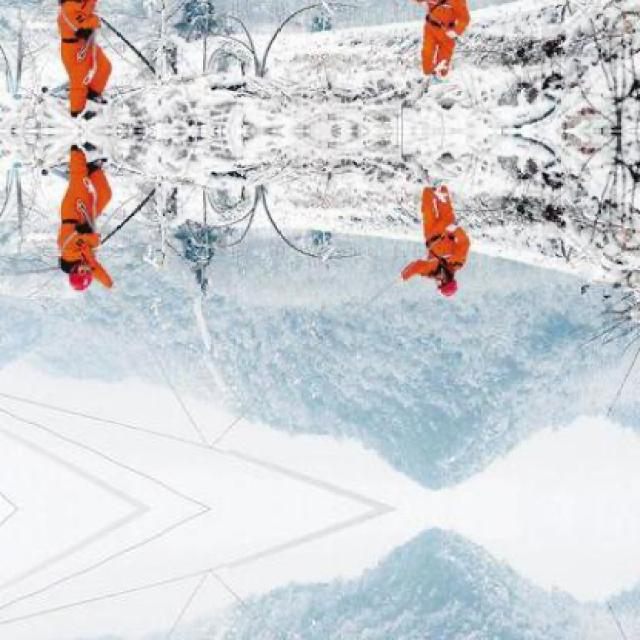con casco: (389, 250, 477, 306), (37, 249, 104, 312)
